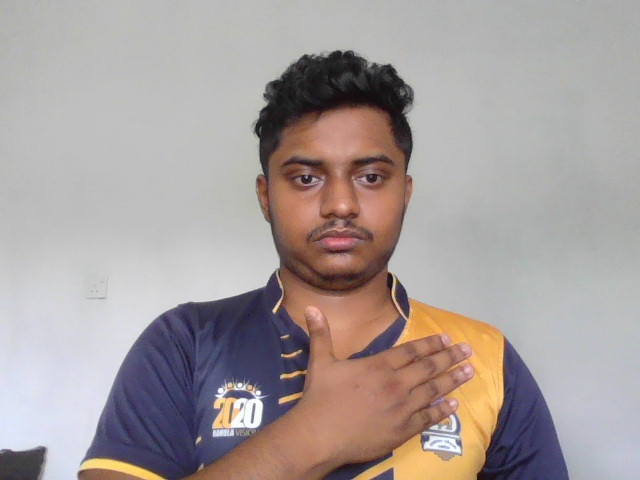Please: (303, 304, 476, 467)
